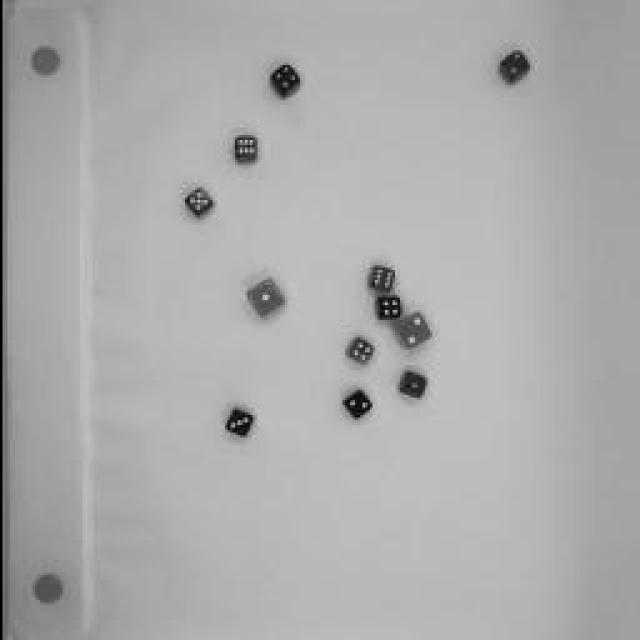dice_1: (242, 274, 286, 321), (392, 368, 428, 402)
dice_2: (389, 308, 431, 352), (492, 47, 528, 85), (338, 386, 372, 422)
dice_3: (220, 402, 255, 442)
dice_4: (262, 60, 302, 100), (341, 335, 374, 370)
dice_5: (180, 182, 215, 220), (368, 292, 404, 322)
dice_6: (363, 263, 395, 295), (230, 134, 258, 166)
